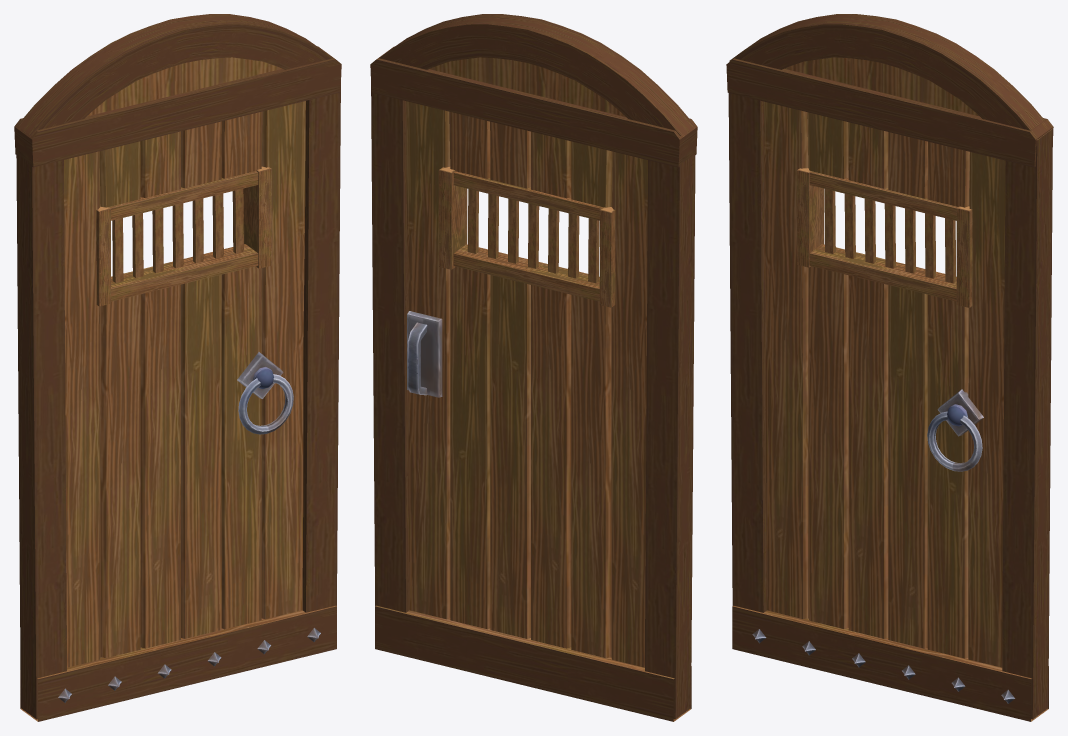
The model's file is Door_8_Round.gltf.
The picture shows the model from 3 angles, left to right: view 1: azimuth 30°, elevation 25°; view 2: azimuth 150°, elevation 25°; view 3: azimuth 330°, elevation 25°; orthographic projection.
Parts seen in each view (by area): view 1: Door_8_Round; view 2: Door_8_Round; view 3: Door_8_Round.
Part boxes in pixels (box(x1,y1,x2,y2)): Door_8_Round: box(14, 14, 341, 721); Door_8_Round: box(370, 14, 697, 721); Door_8_Round: box(726, 14, 1053, 721).
Size of the model in its own units: 1.15 by 2.32 by 0.1995.
2 materials, 2 textured.
